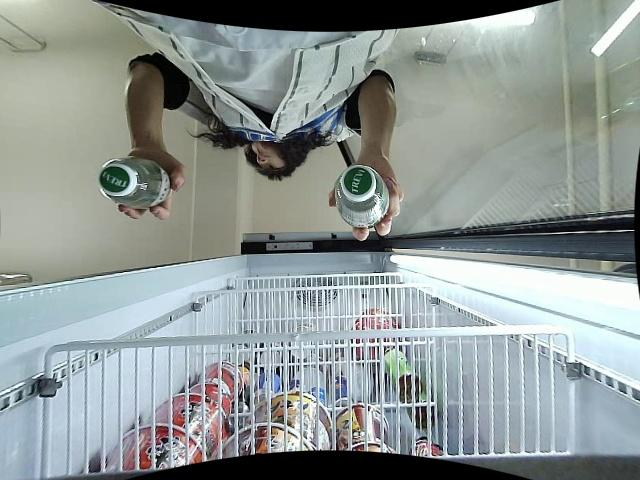00_hand: (327, 159, 405, 243), (117, 147, 187, 223)
18_trevi: (95, 157, 172, 213), (334, 165, 390, 229)
